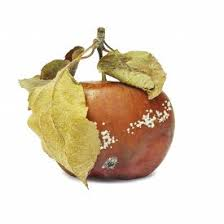damaged_apple: (41, 64, 177, 191)
